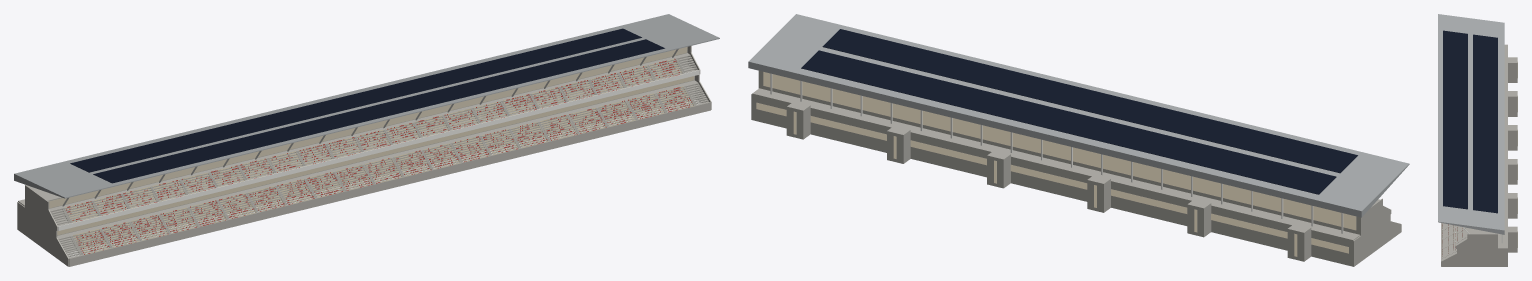
File: cat_stand_c.glb
3 views of the same model, side by side, from view 1: azimuth 30°, elevation 25°; view 2: azimuth 150°, elevation 25°; view 3: azimuth 270°, elevation 25° (orthographic). The views are drawn at different scales.
Parts seen in each view (by area): view 1: barcelona-main-grandstand; view 2: barcelona-main-grandstand; view 3: barcelona-main-grandstand.
Part boxes in pixels (x1,y1,x2,y2): barcelona-main-grandstand: [14, 14, 719, 266]; barcelona-main-grandstand: [748, 14, 1409, 266]; barcelona-main-grandstand: [1438, 14, 1517, 266].
Size of the model in its own units: 296 by 31.3 by 48.06.
